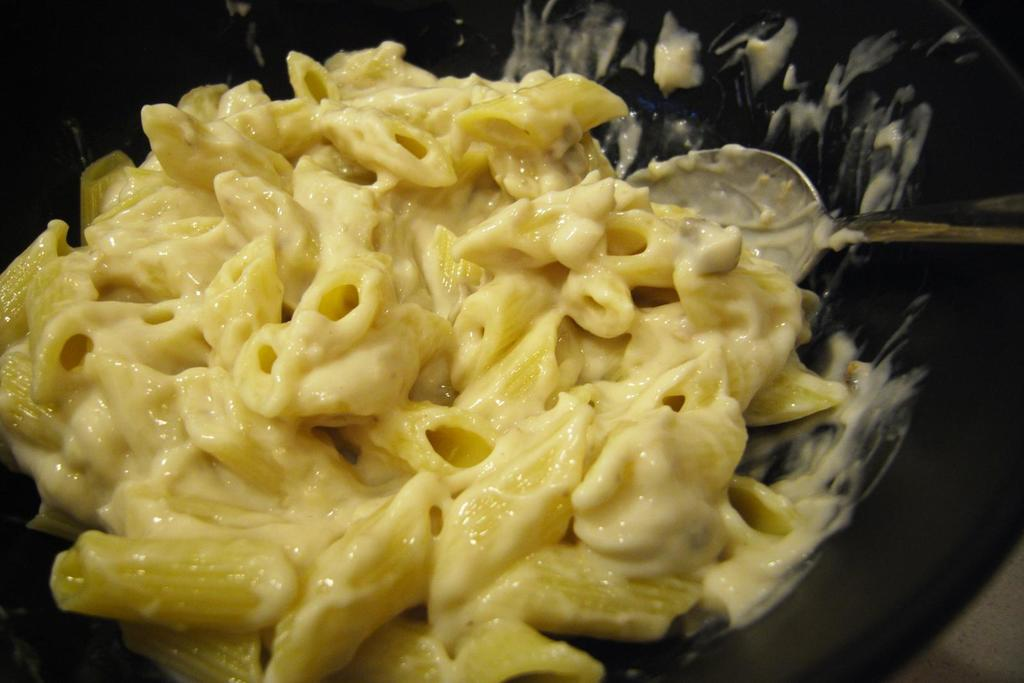pasta: (0, 20, 918, 683)
